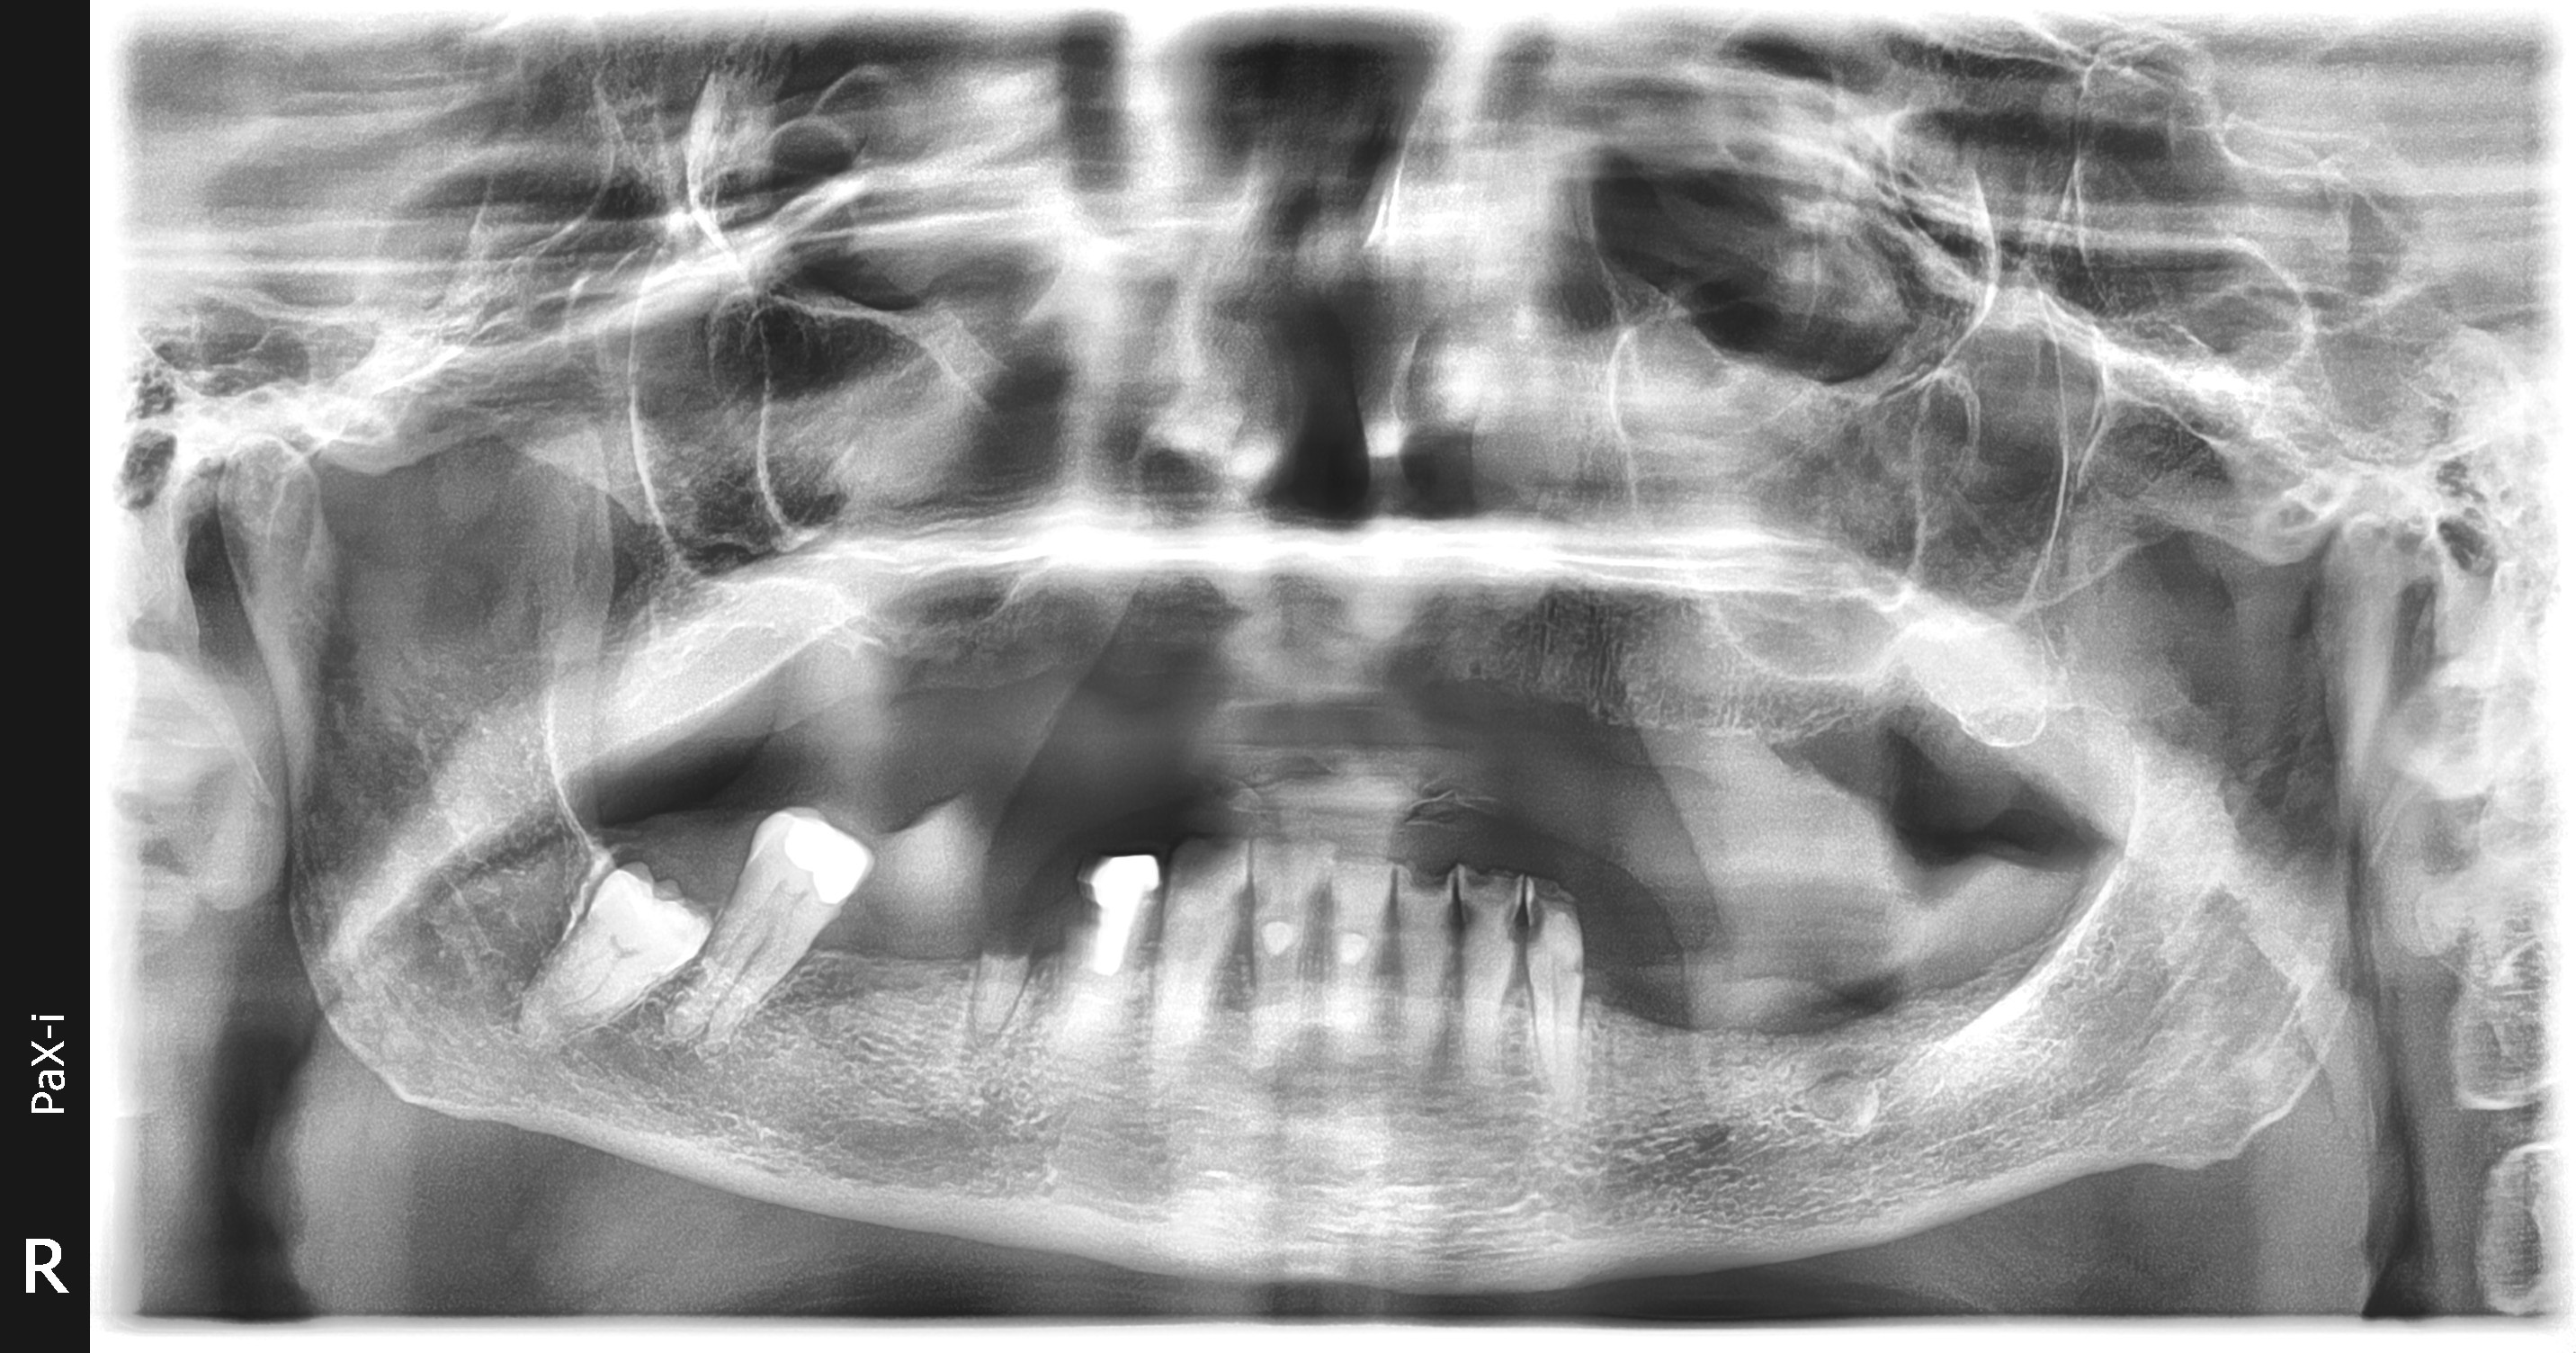API: (968, 1017, 1002, 1065)
CAR: (1530, 872, 1576, 908), (1474, 864, 1509, 905), (1404, 859, 1446, 890), (1571, 954, 1598, 983), (1264, 867, 1281, 910), (1460, 905, 1479, 942), (1527, 924, 1544, 954), (1327, 895, 1346, 918), (1230, 883, 1244, 915), (1392, 900, 1400, 937)
IMT: (535, 816, 700, 1084)
OBT: (785, 799, 889, 913), (1331, 922, 1365, 968), (1259, 922, 1297, 954)
PRR: (1092, 852, 1150, 971)
ROT: (975, 936, 1021, 1026)
